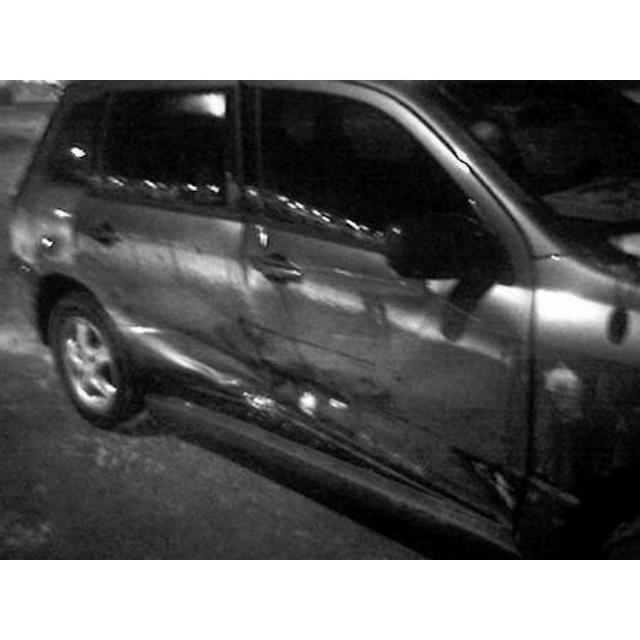Runningboard-Damage: (114, 387, 317, 455)
doorouter-dent: (240, 197, 531, 498), (53, 192, 270, 384)
